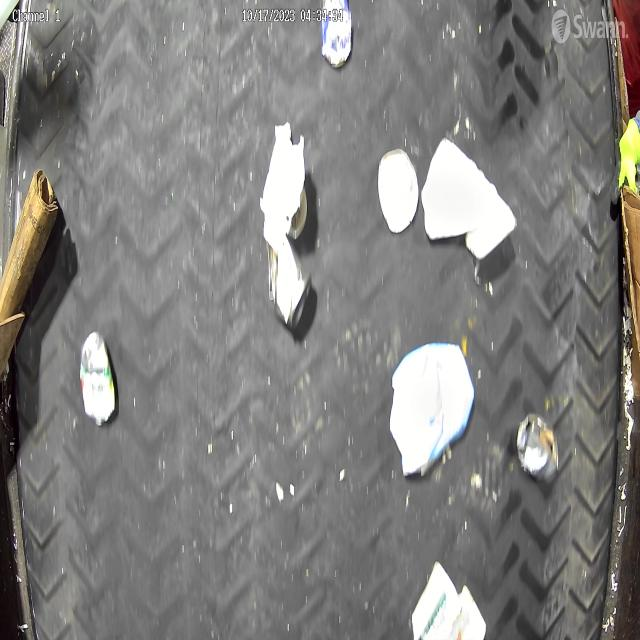can: (268, 235, 312, 332), (79, 329, 117, 429), (516, 408, 560, 484)
